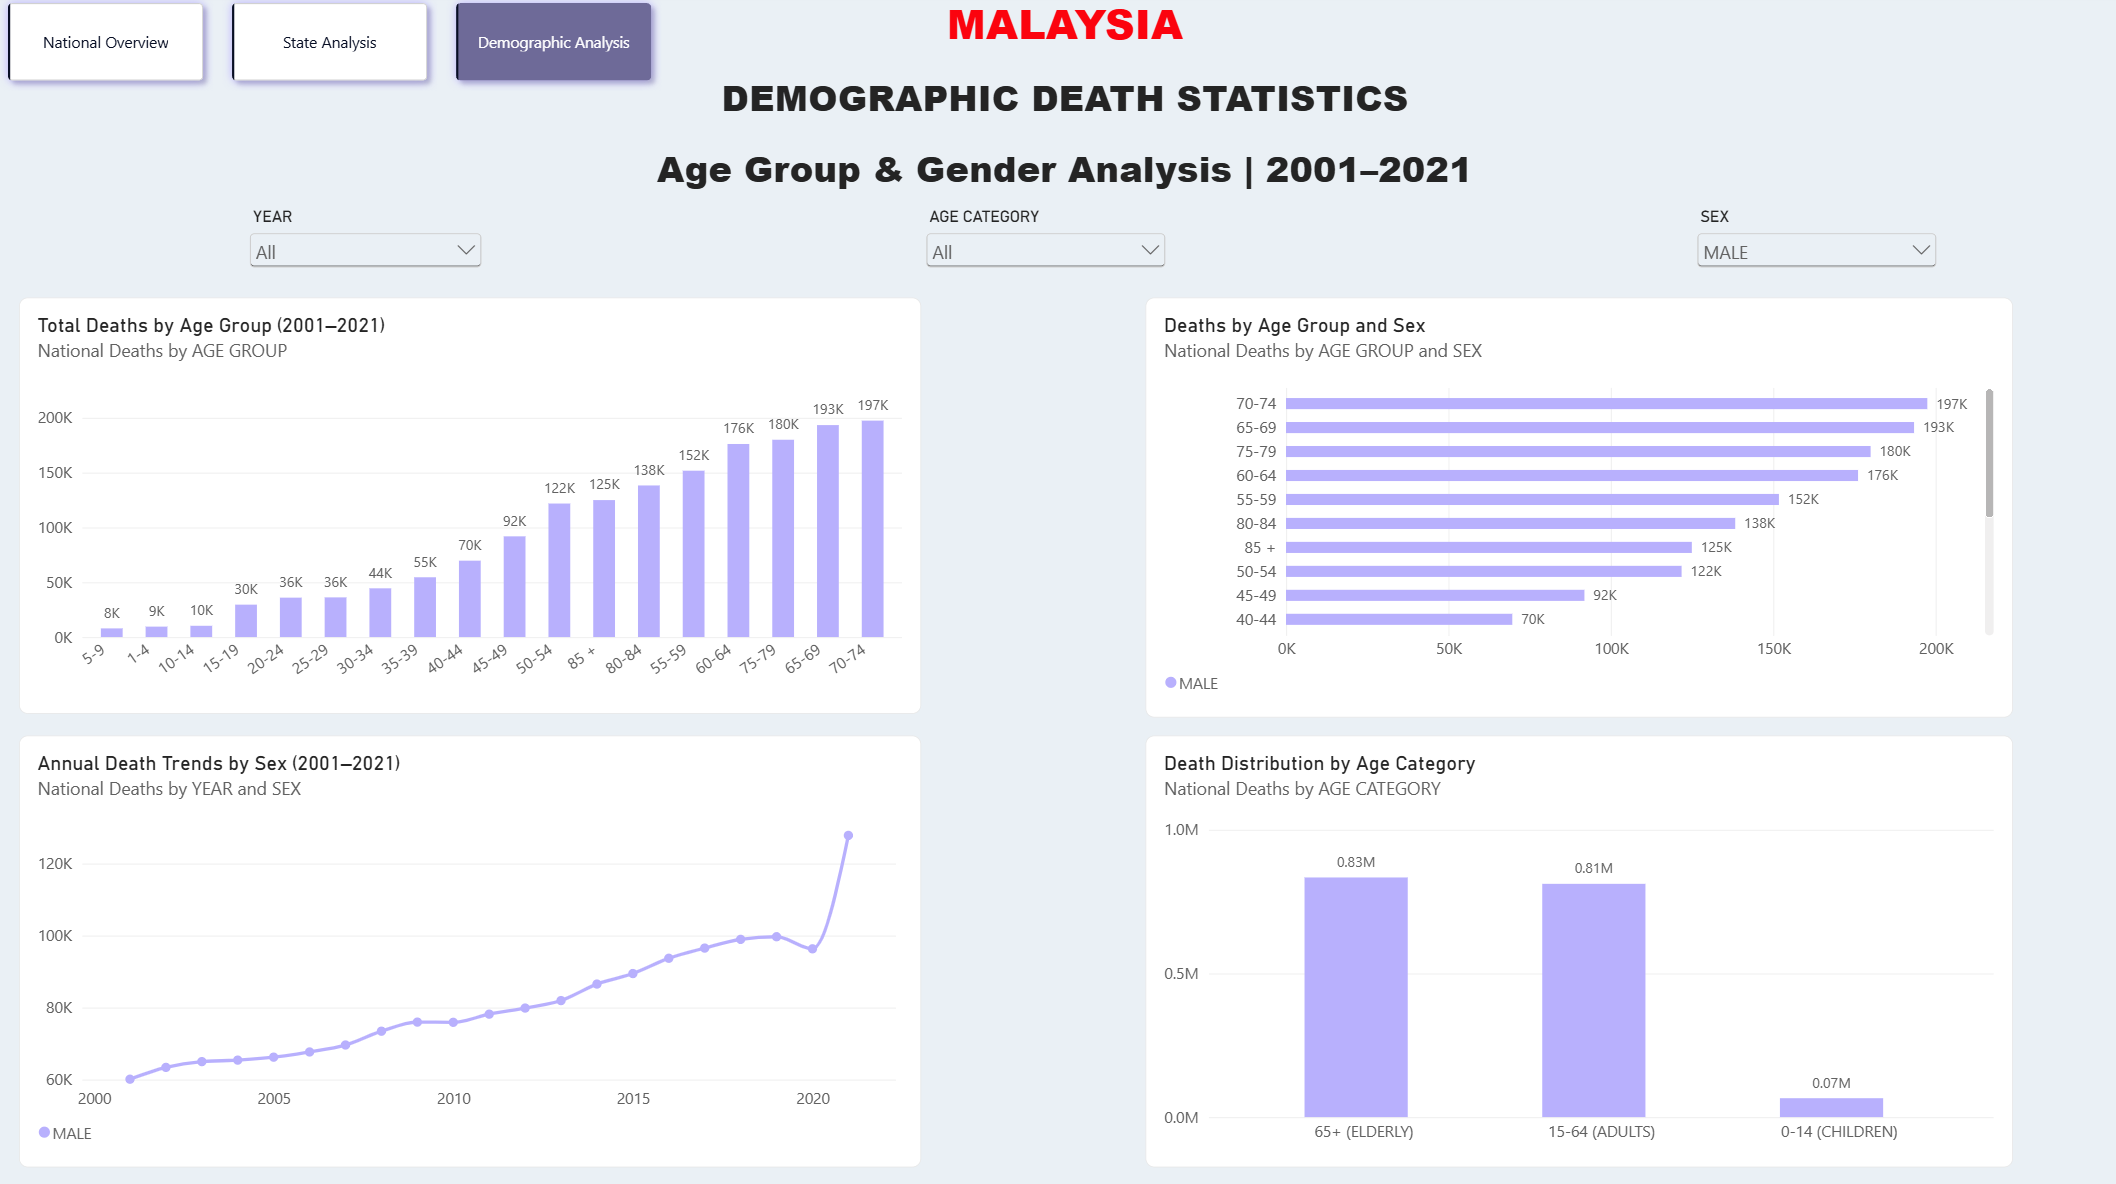

The dashboard page shown, as its layout file describes it:
{"tool":"powerbi","page":{"name":"Demographic Analysis","canvas":[1920,1080],"ordinal":2},"visuals":[{"type":"textbox","box":[10.4,0,1910.2,196.4],"z":0},{"type":"clusteredColumnChart","title":"Total Deaths by Age Group (2001–2021)","fields":{"Category":["Death Data.AGE GROUP"],"Y":["Death Data.National Deaths"]},"box":[19.1,274.6,813.4,375.4],"z":1000},{"type":"clusteredColumnChart","title":"Death Distribution by Age Category","fields":{"Category":["Death Data.AGE CATEGORY"],"Y":["Death Data.National Deaths"]},"box":[1034.2,669.2,782.1,389.3],"z":2000},{"type":"barChart","title":"Deaths by Age Group and Sex","fields":{"Category":["Death Data.AGE GROUP"],"Series":["Death Data.SEX"],"Y":["Death Data.National Deaths"]},"box":[1034.2,274.6,782.1,378.9],"z":3000},{"type":"lineChart","title":"Annual Death Trends by Sex (2001–2021)","fields":{"Category":["Death Data.YEAR"],"Series":["Death Data.SEX"],"Y":["Death Data.National Deaths"]},"box":[19.1,669.2,813.4,389.3],"z":4000},{"type":"slicer","title":"SELECT YEAR","fields":{"Values":["Death Data.YEAR"]},"box":[221.9,193.5,219,111.2],"z":5000},{"type":"slicer","title":"SELECT AGE CATEGORY","fields":{"Values":["Death Data.AGE CATEGORY"]},"box":[832,193.5,226,163.4],"z":6000},{"type":"slicer","fields":{"Values":["Death Data.SEX"]},"box":[1527.2,193.5,226,271.1],"z":7000},{"type":"pageNavigator","box":[0,0,599.6,88.6],"z":8000}]}

Visuals, with their boxes in screenshot pixels (x1, y1, x2, y2), scaled from the page's 1920x1080 canvas onto the 2116x1184 screenshot:
textbox: [left=11, top=0, right=2115, bottom=215]
"Total Deaths by Age Group (2001–2021)" clusteredColumnChart: [left=21, top=301, right=917, bottom=713]
"Death Distribution by Age Category" clusteredColumnChart: [left=1140, top=734, right=2002, bottom=1160]
"Deaths by Age Group and Sex" barChart: [left=1140, top=301, right=2002, bottom=716]
"Annual Death Trends by Sex (2001–2021)" lineChart: [left=21, top=734, right=917, bottom=1160]
"SELECT YEAR" slicer: [left=245, top=212, right=486, bottom=334]
"SELECT AGE CATEGORY" slicer: [left=917, top=212, right=1166, bottom=391]
slicer - Death Data.SEX: [left=1683, top=212, right=1932, bottom=509]
pageNavigator: [left=0, top=0, right=661, bottom=97]
